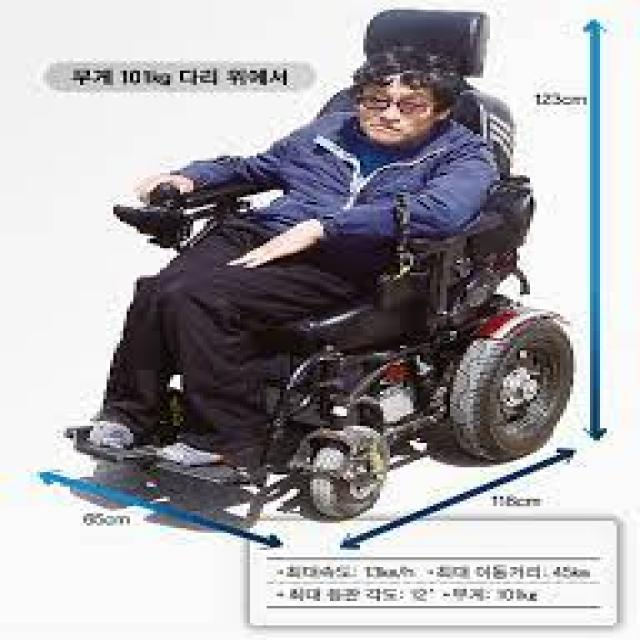wheelchair: (80, 44, 578, 518)
